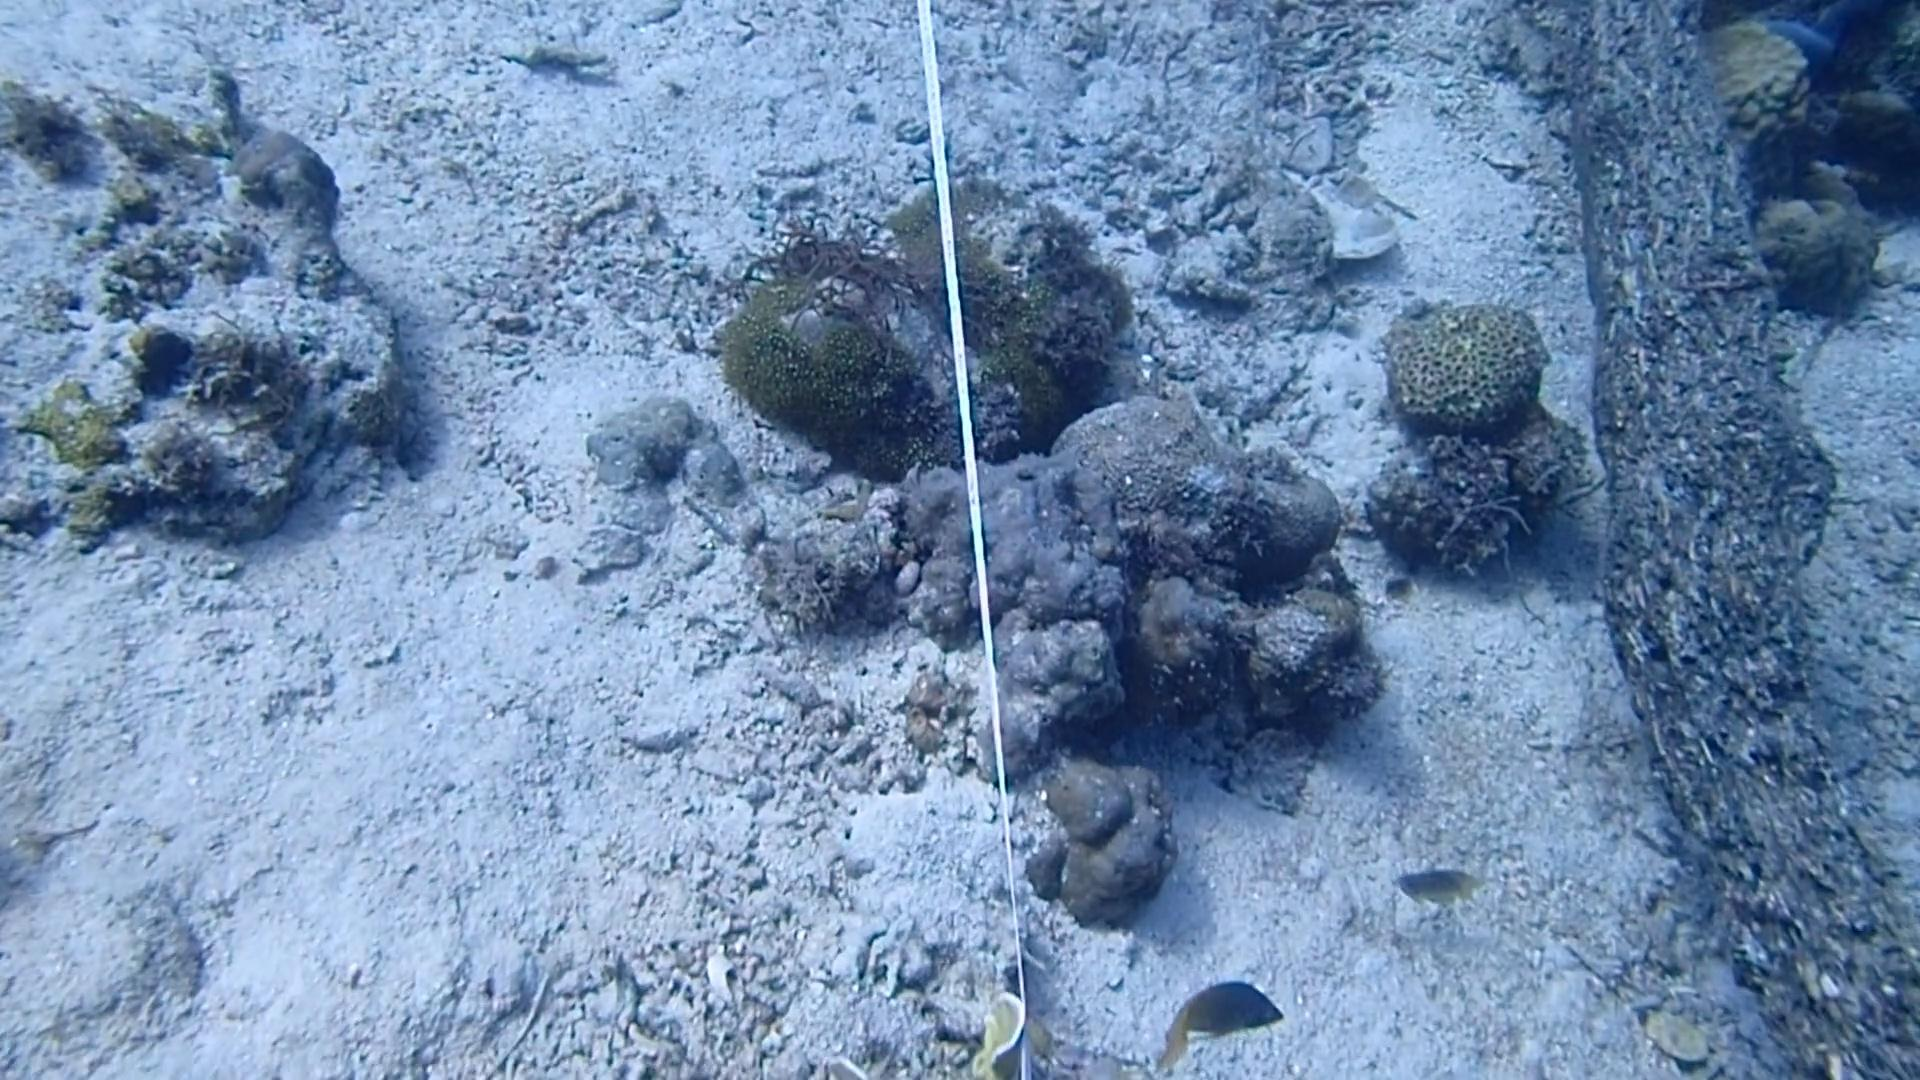Light Fish: (1386, 861, 1484, 926)
Yellow-Blue Fish: (1137, 968, 1296, 1075)
